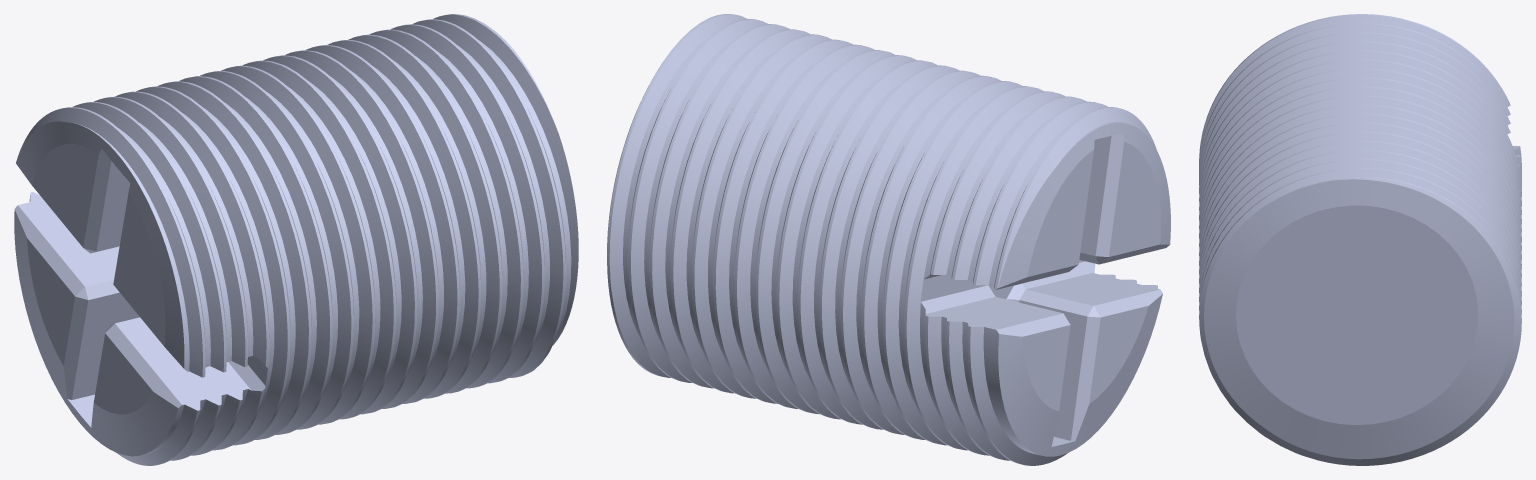
Rendered from body157_visual.obj.
3 views of the same model, side by side, from view 1: azimuth 30°, elevation 25°; view 2: azimuth 150°, elevation 25°; view 3: azimuth 270°, elevation 25° (orthographic). The views are drawn at different scales.
Visible parts, largest first — view 1: Body157; view 2: Body157; view 3: Body157.
Part boxes in pixels (x1=…): Body157: x1=14, y1=14, x2=578, y2=465; Body157: x1=607, y1=14, x2=1170, y2=465; Body157: x1=1199, y1=14, x2=1521, y2=465.
Bounding box in the file's own units: 0.4725 × 0.3771 × 0.3771.
